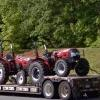Tractor: (12, 36, 92, 84)
